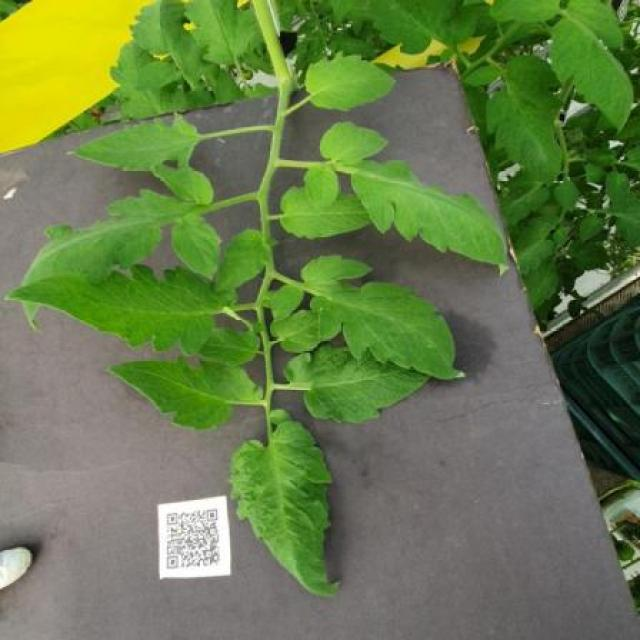Healthy: (16, 186, 221, 336), (299, 252, 467, 388), (2, 264, 229, 362), (227, 420, 346, 600), (352, 154, 511, 277), (106, 348, 263, 436), (283, 344, 434, 426), (61, 112, 200, 178), (303, 50, 397, 114), (278, 183, 373, 241)
